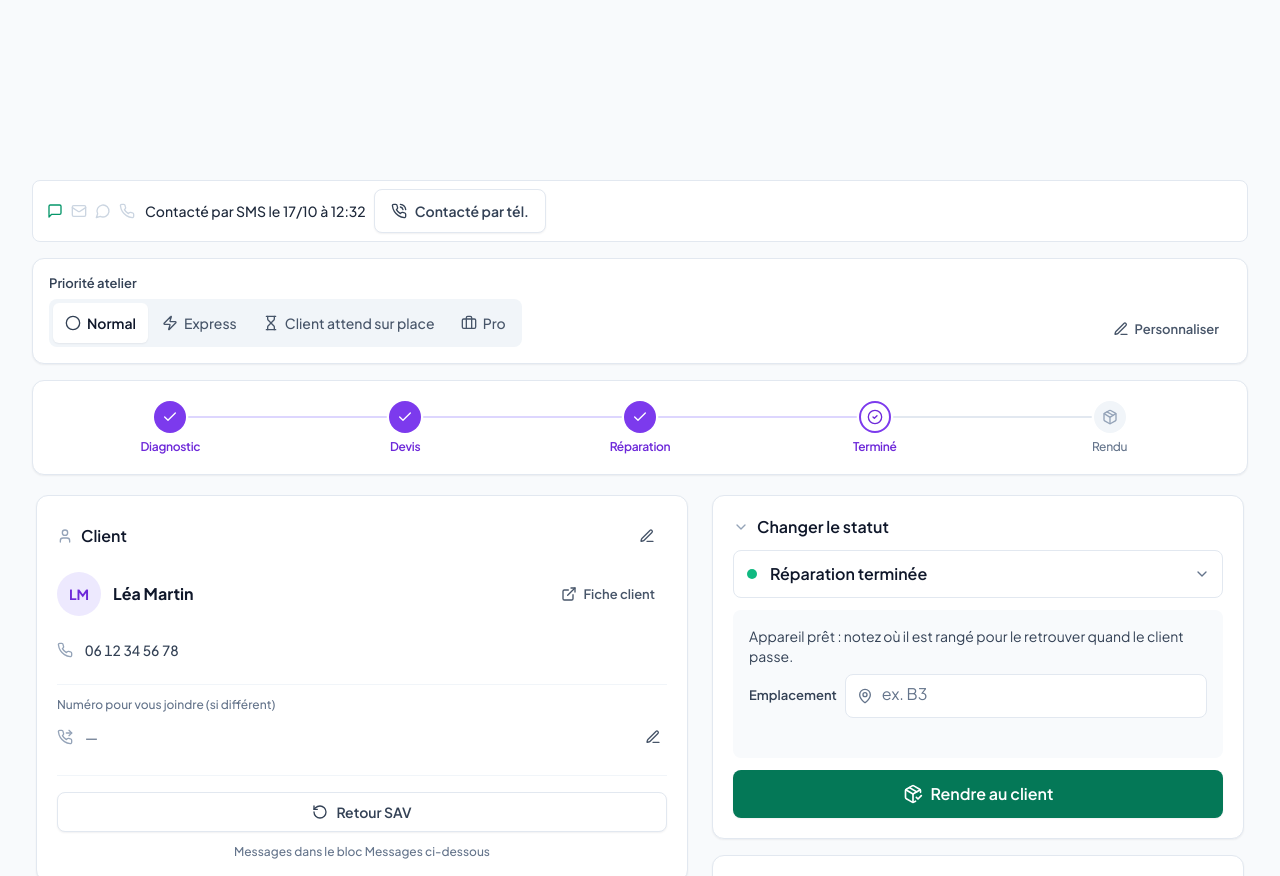
Fiche ticket — rubrique « Client contacté » › erreur du serveur : le contact affiché ne change pas
What coordinates should you click on to do the following:
click the button "Contacté par tél."
I would click on:
 (460, 211)
Its box is [374,189,546,233].
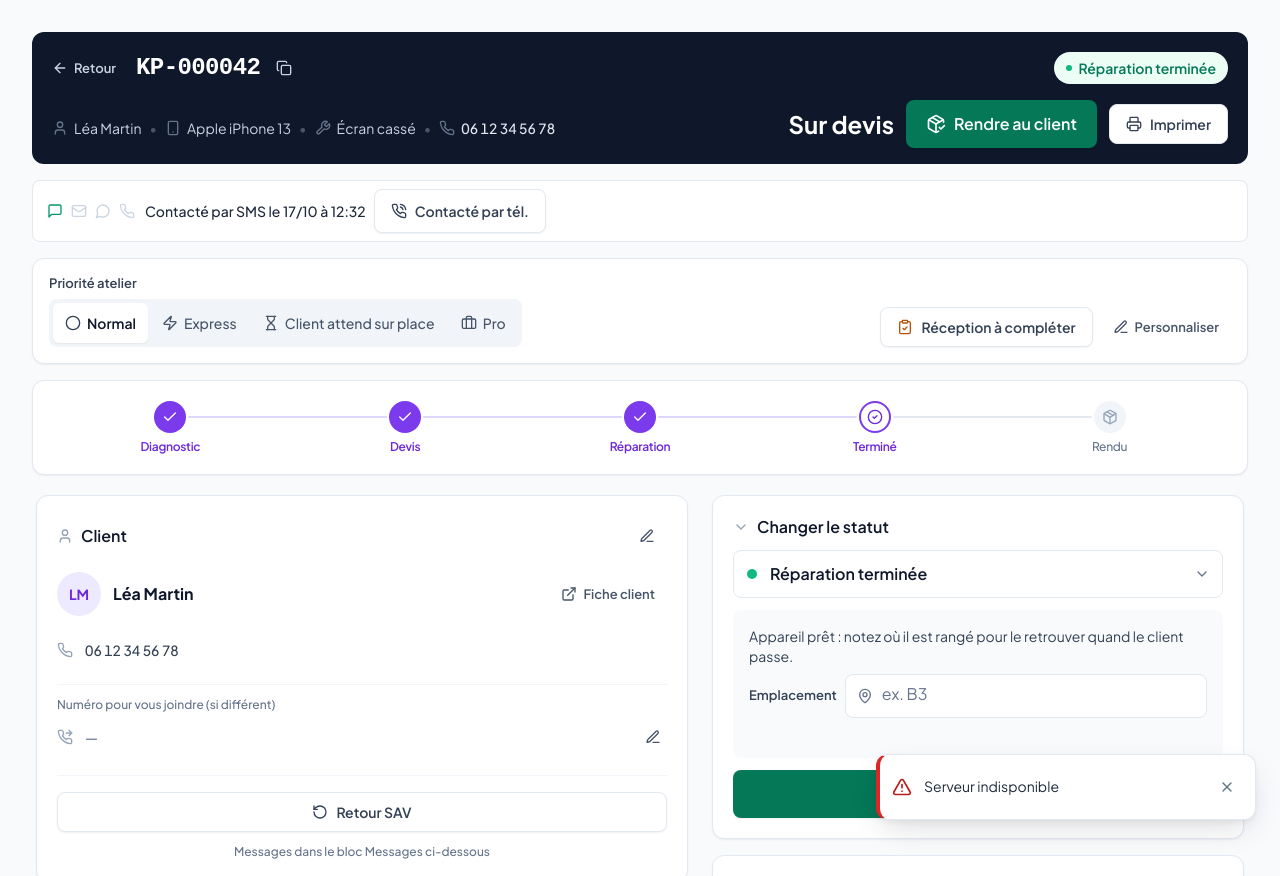
Check: the text "Serveur indisponible" is shown, box [924,777,1059,795]
